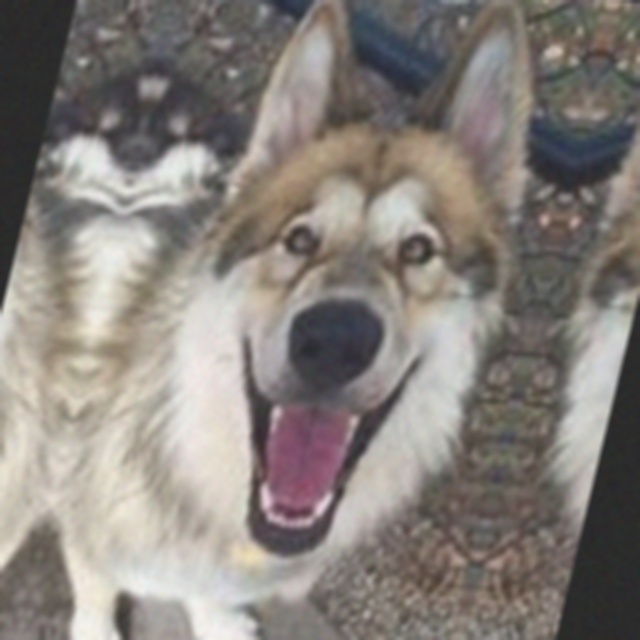dog: (22, 0, 581, 640), (0, 0, 169, 640), (475, 19, 640, 640)
